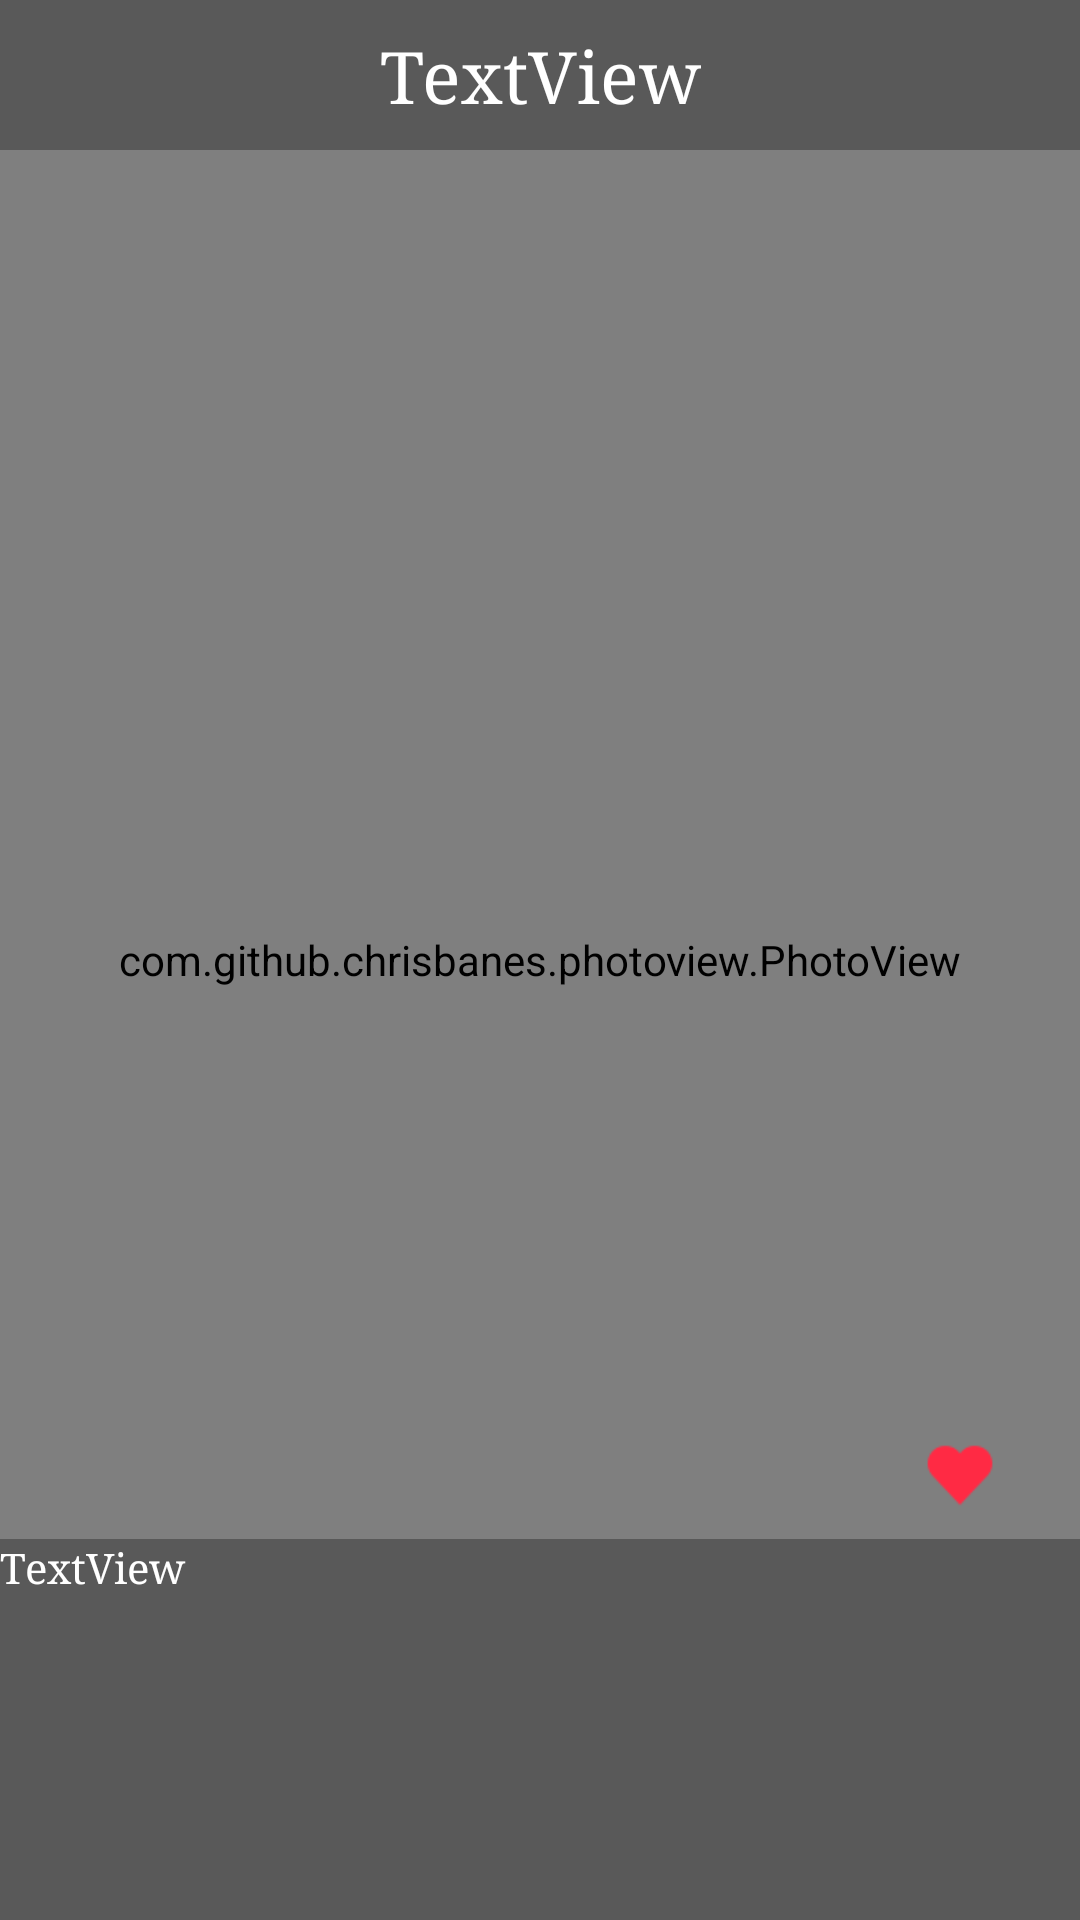

Point at icon controls on the screen. Image size 1080 × 1920, points as [x,y].
like: [960,1475]
